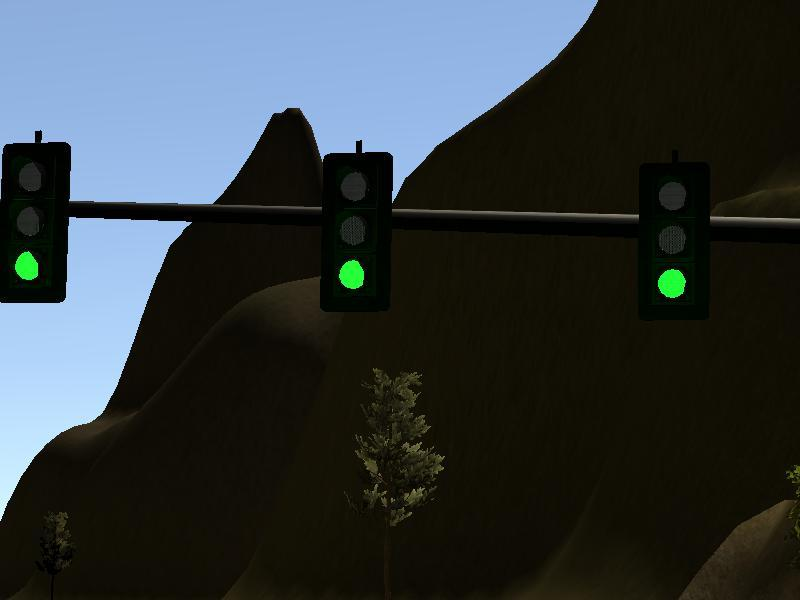Green: (324, 153, 388, 306), (642, 167, 703, 314), (4, 148, 62, 300)
